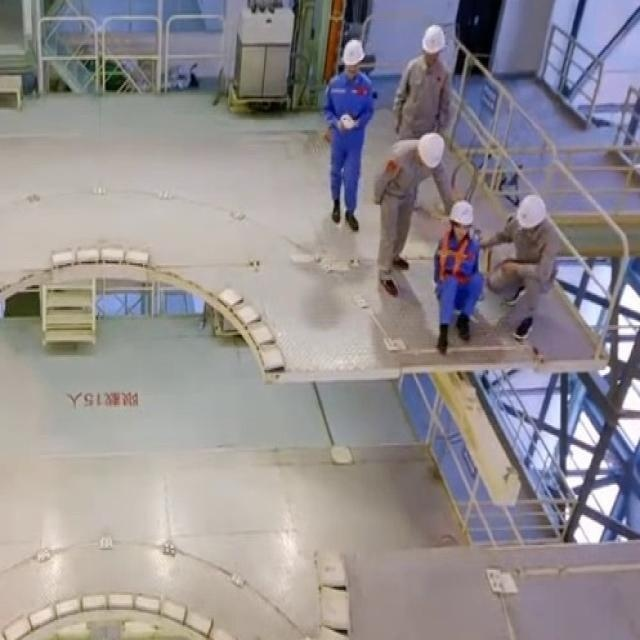Arnes_seguridad: (437, 224, 473, 284)
